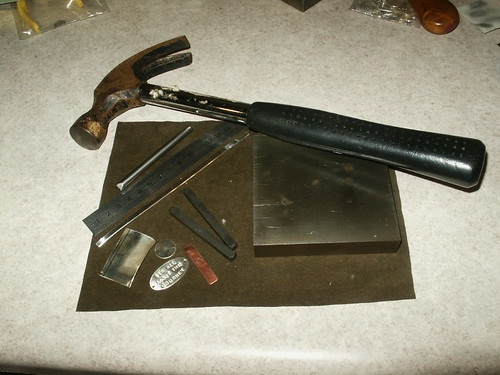hammer: (68, 34, 486, 190)
